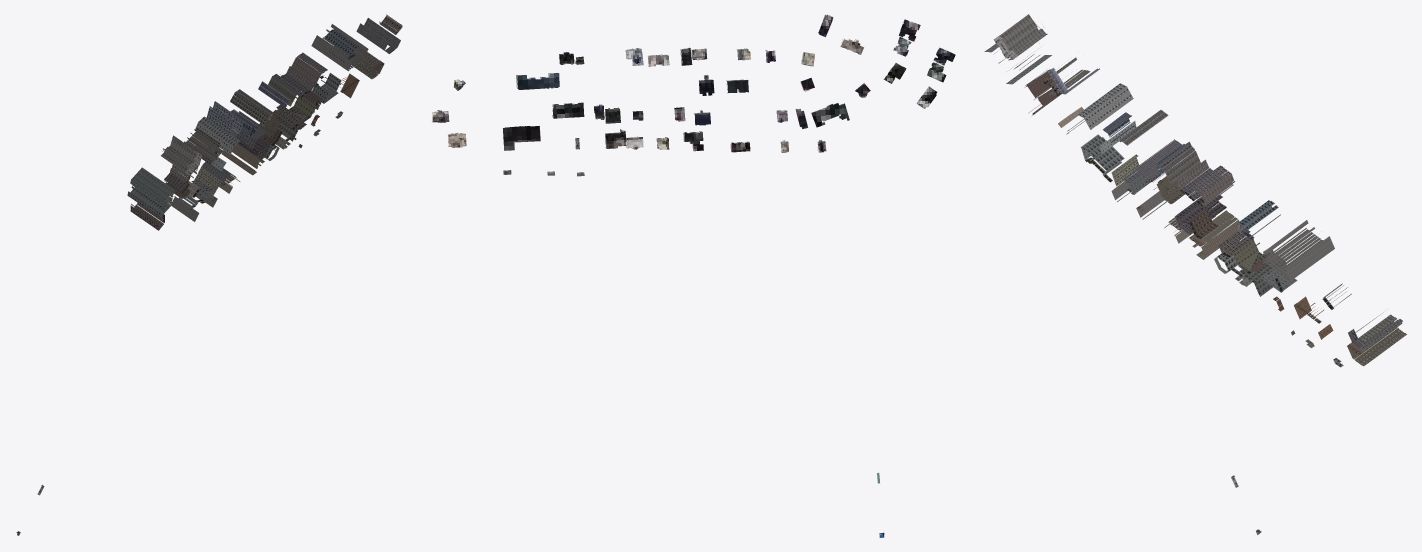
Rendered from tile_LOD2_r0_c2.glb.
3 views of the same model, side by side, from view 1: azimuth 30°, elevation 25°; view 2: azimuth 150°, elevation 25°; view 3: azimuth 270°, elevation 25° (orthographic). The views are drawn at different scales.
Size of the model in its own units: 556 by 568 by 384.
Materials: 219 (219 with a texture image).
